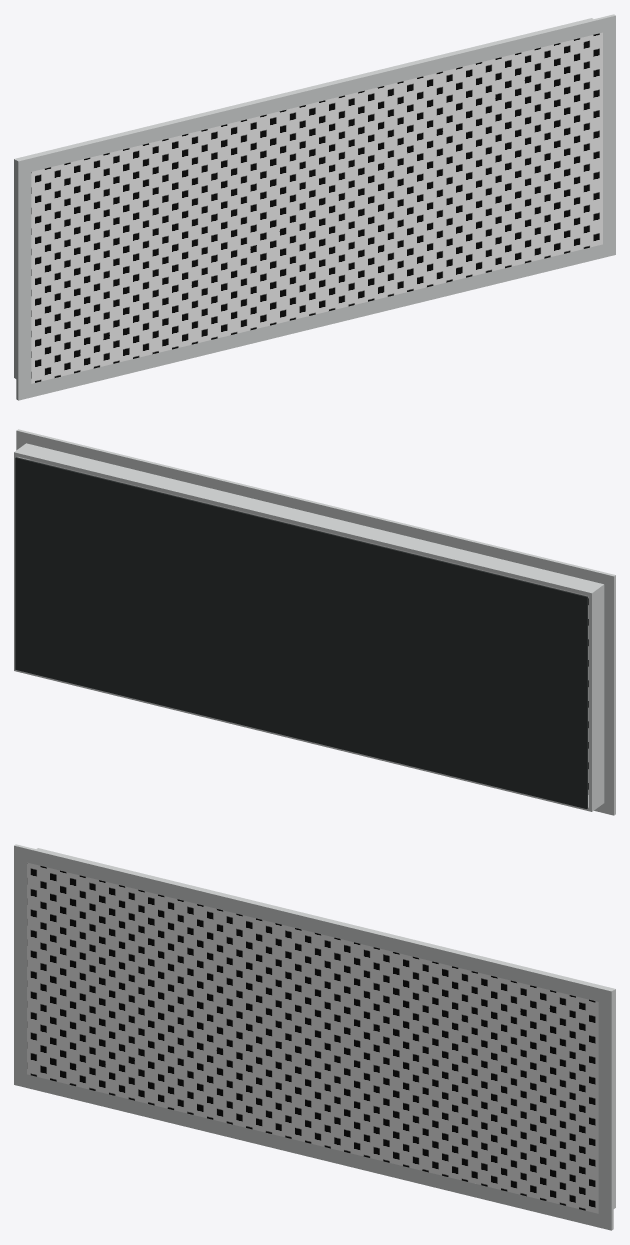
The model's file is ecoclima-ega-one-egafr-one-2.glb.
3 views of the same model, one above another, from view 1: azimuth 30°, elevation 25°; view 2: azimuth 150°, elevation 25°; view 3: azimuth 330°, elevation 25° (orthographic).
Visible parts, largest first — view 1: Profile_lamiera_forata.004, Profile_cornice.121, Profile_cornice.122, Profile_cornice.123, Profile_cornice.124, Profile_ritorno.132, Profile_ritorno.134; view 2: Interno.035, Profile_ritorno.132, Profile_cornice.121, Profile_ritorno.134, Profile_cornice.123, Profile_ritorno.133, Profile_lamiera_forata.004; view 3: Profile_lamiera_forata.004, Profile_cornice.121, Profile_cornice.122, Profile_cornice.124, Profile_cornice.123, Profile_ritorno.132, Profile_ritorno.135.
Boxes of the visible parts, x1=… form: Profile_lamiera_forata.004: x1=31, y1=32, x2=602, y2=383; Profile_cornice.121: x1=16, y1=14, x2=615, y2=174; Profile_cornice.122: x1=16, y1=241, x2=615, y2=400; Profile_cornice.123: x1=16, y1=172, x2=31, y2=386; Profile_cornice.124: x1=603, y1=29, x2=615, y2=244; Profile_ritorno.132: x1=14, y1=18, x2=593, y2=163; Profile_ritorno.134: x1=14, y1=162, x2=16, y2=375; Interno.035: x1=15, y1=457, x2=587, y2=808; Profile_ritorno.132: x1=14, y1=443, x2=604, y2=596; Profile_cornice.121: x1=16, y1=429, x2=615, y2=589; Profile_ritorno.134: x1=588, y1=588, x2=604, y2=808; Profile_cornice.123: x1=604, y1=588, x2=615, y2=801; Profile_ritorno.133: x1=14, y1=667, x2=604, y2=811; Profile_lamiera_forata.004: x1=30, y1=459, x2=588, y2=794; Profile_lamiera_forata.004: x1=27, y1=862, x2=598, y2=1213; Profile_cornice.121: x1=14, y1=844, x2=613, y2=1004; Profile_cornice.122: x1=14, y1=1071, x2=613, y2=1230; Profile_cornice.124: x1=598, y1=1002, x2=613, y2=1216; Profile_cornice.123: x1=14, y1=859, x2=26, y2=1074; Profile_ritorno.132: x1=36, y1=848, x2=615, y2=993; Profile_ritorno.135: x1=613, y1=992, x2=615, y2=1205.
Size of the model in its own units: 0.366 by 0.14 by 0.017.
3 materials, 1 textured.
